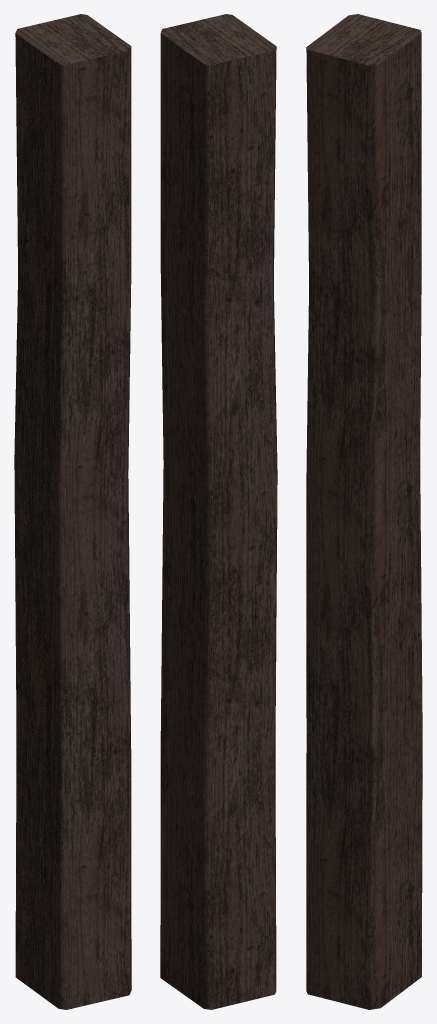
File: UD_Pivot.fbx
3 views of the same model, side by side, from view 1: azimuth 30°, elevation 25°; view 2: azimuth 210°, elevation 25°; view 3: azimuth 330°, elevation 25° (orthographic).
Parts seen in each view (by area): view 1: FoyerBeam_b_LOD0; view 2: FoyerBeam_b_LOD0; view 3: FoyerBeam_b_LOD0.
Part boxes in pixels (x1,y1,x2,y2): FoyerBeam_b_LOD0: [14, 14, 131, 1009]; FoyerBeam_b_LOD0: [160, 14, 277, 1009]; FoyerBeam_b_LOD0: [306, 14, 422, 1009].
Bounding box in the file's own units: 25.25 × 303 × 29.3.
